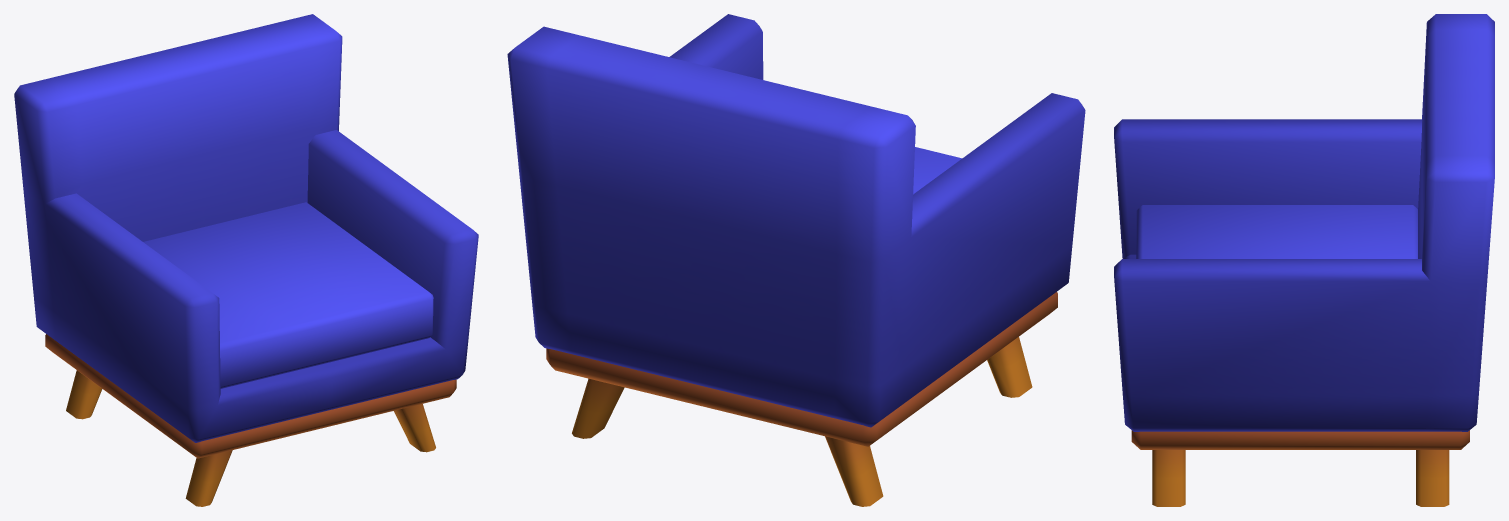
The model's file is ArmChair.fbx.
The picture shows the model from 3 angles, left to right: view 1: azimuth 30°, elevation 25°; view 2: azimuth 150°, elevation 25°; view 3: azimuth 270°, elevation 25°; orthographic projection. The views are drawn at different scales.
Visible parts, largest first — view 1: ArmChair; view 2: ArmChair; view 3: ArmChair.
Part boxes in pixels (left/top/right/bottom): ArmChair: left=14, top=14, right=478, bottom=506; ArmChair: left=507, top=14, right=1085, bottom=506; ArmChair: left=1114, top=14, right=1494, bottom=506.
Size of the model in its own units: 3.99 by 3.97 by 3.91.
